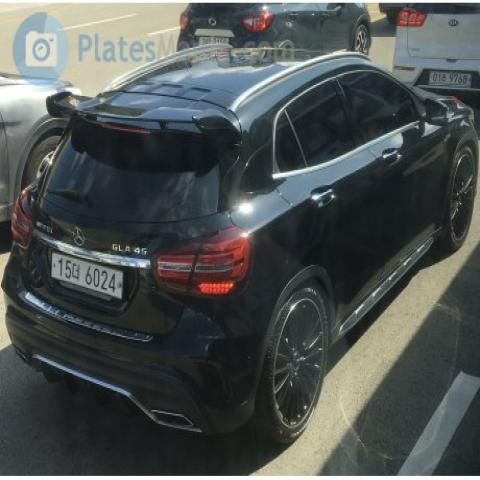LP: (40, 242, 138, 312)
